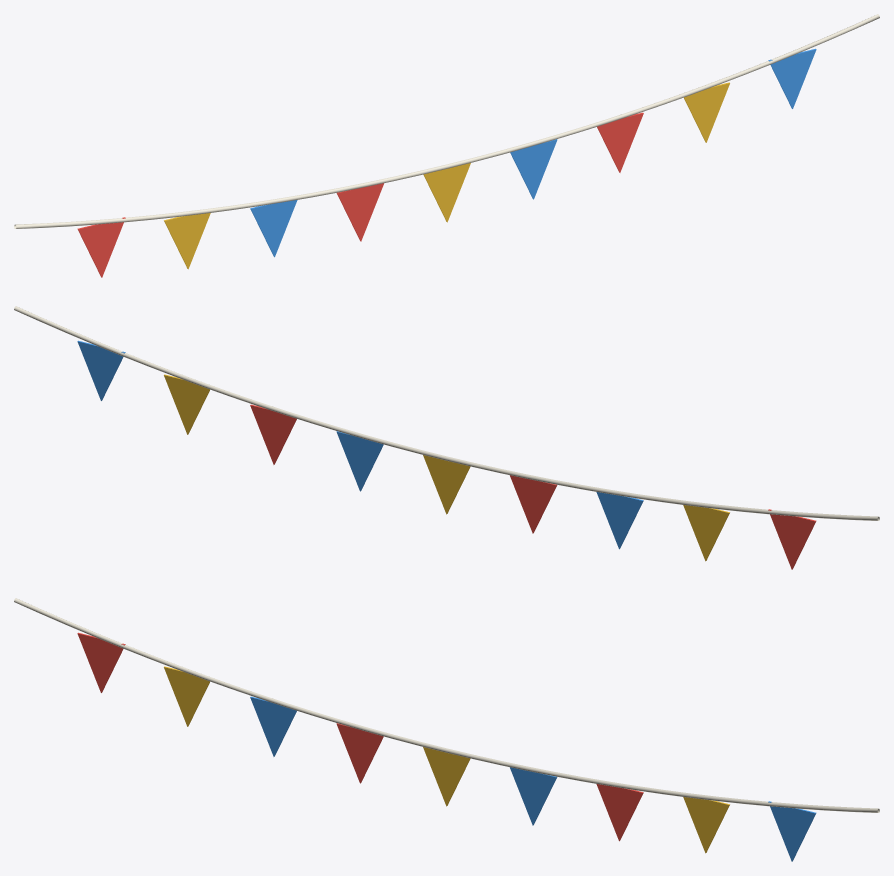
The model's file is Bunting.obj.
3 views of the same model, one above another, from view 1: azimuth 30°, elevation 25°; view 2: azimuth 150°, elevation 25°; view 3: azimuth 330°, elevation 25° (orthographic).
Parts seen in each view (by area): view 1: Rope, PennantA, PennantC, PennantB; view 2: Rope, PennantA, PennantC, PennantB; view 3: Rope, PennantA, PennantC, PennantB.
Boxes of the visible parts, x1,y1,x2,y2 form: Rope: (14, 14, 879, 228); PennantA: (77, 112, 643, 277); PennantC: (250, 48, 816, 257); PennantB: (164, 82, 729, 269); Rope: (14, 306, 879, 520); PennantA: (250, 404, 816, 569); PennantC: (77, 340, 643, 549); PennantB: (164, 374, 729, 561); Rope: (14, 598, 879, 812); PennantA: (77, 632, 643, 841); PennantC: (250, 696, 816, 861); PennantB: (164, 666, 729, 853).
Bounding box in the file's own units: 20.02 × 2.28 × 0.0866.
